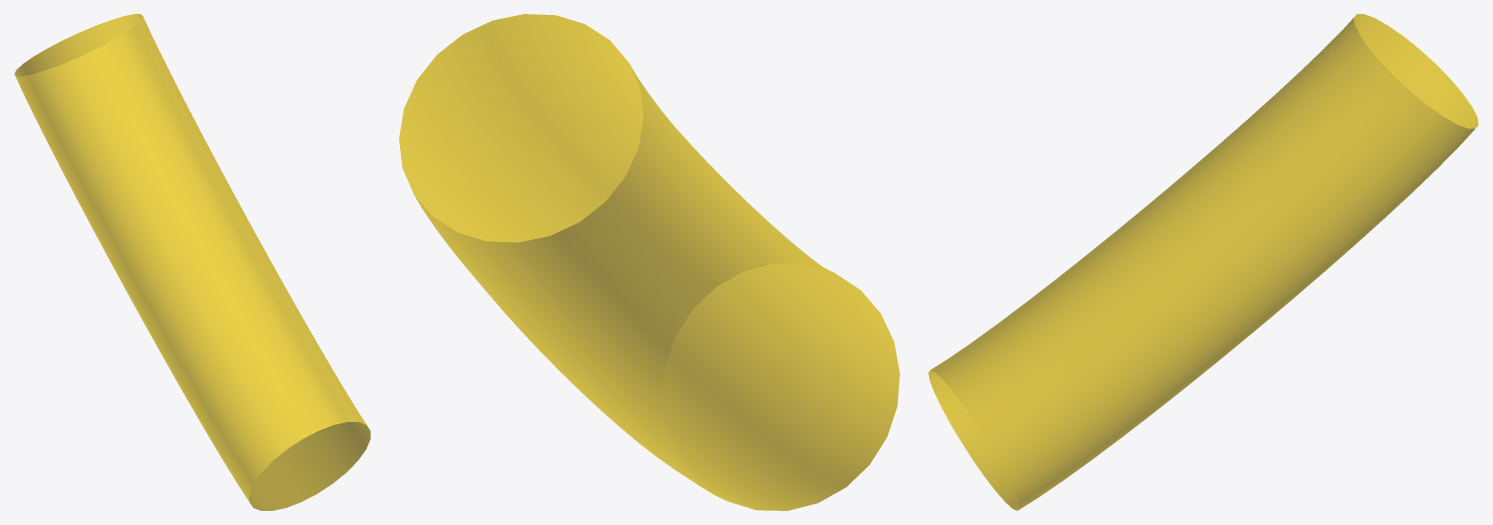
Rendered from Event_27938768_track_47.fbx.
3 renders of one model, left to right at view 1: azimuth 30°, elevation 25°; view 2: azimuth 150°, elevation 25°; view 3: azimuth 270°, elevation 25°, orthographic. The views are drawn at different scales.
Visible parts, largest first — view 1: Model; view 2: Model; view 3: Model.
Boxes of the visible parts, x1=… form: Model: x1=14, y1=14, x2=370, y2=510; Model: x1=399, y1=14, x2=899, y2=510; Model: x1=928, y1=14, x2=1478, y2=510.
Bounding box in the file's own units: 0.0536 × 0.1218 × 0.1325.
